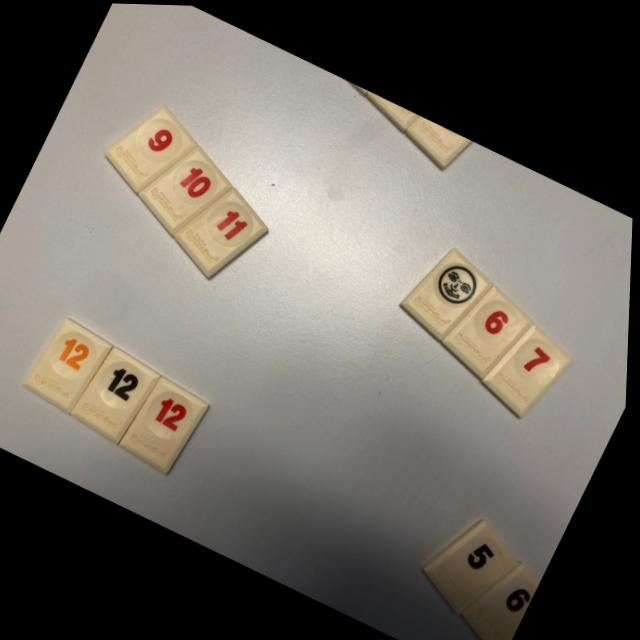black_12: (74, 346, 163, 443)
black_5: (427, 516, 523, 611)
black_6: (467, 560, 544, 640)
joker: (403, 246, 494, 338)
orange_12: (27, 318, 115, 413)
red_10: (141, 145, 233, 234)
red_11: (176, 186, 270, 276)
red_12: (123, 376, 211, 473)
red_6: (445, 283, 535, 375)
red_7: (485, 322, 574, 414)
red_9: (106, 105, 198, 192)
